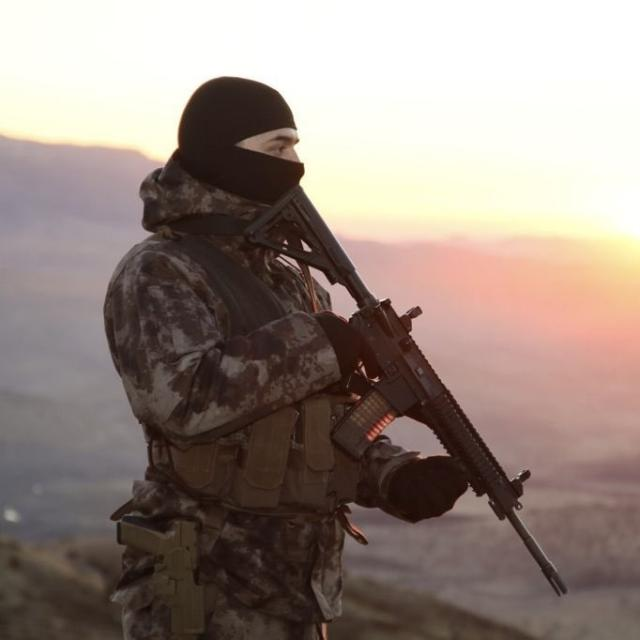poh_personel: (104, 73, 469, 640)
